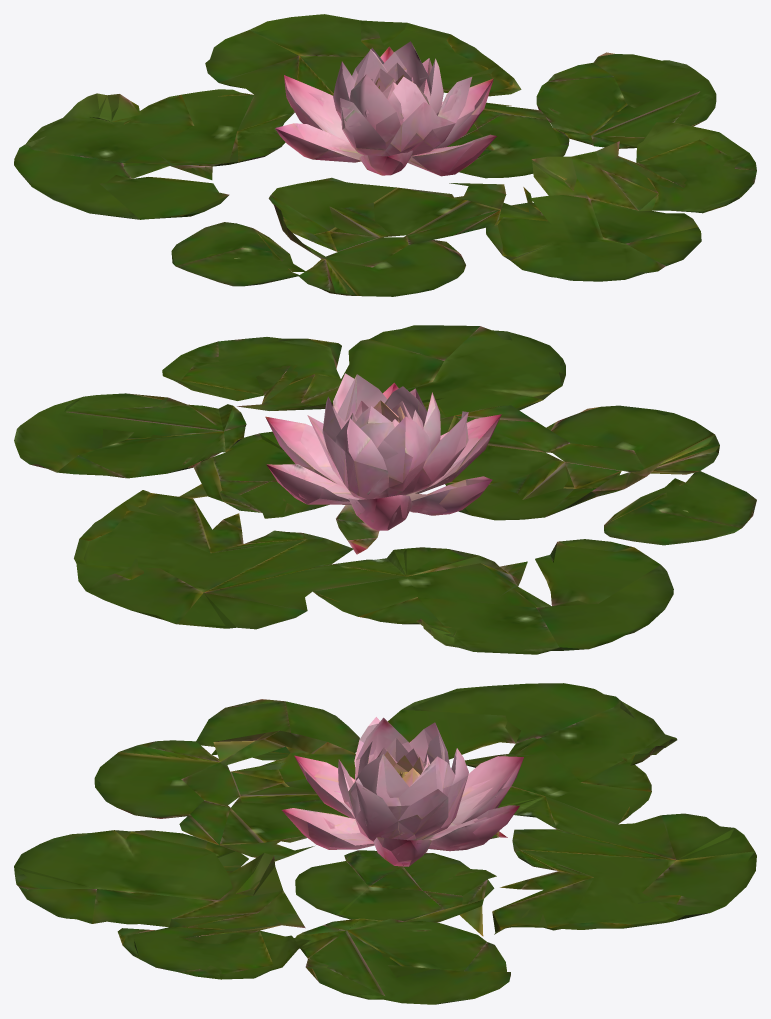
Rendered from scene_lily_pads.glb.
The picture shows the model from 3 angles, top to bottom: view 1: azimuth 30°, elevation 25°; view 2: azimuth 150°, elevation 25°; view 3: azimuth 270°, elevation 25°; orthographic projection. The views are drawn at different scales.
Bounding box in the file's own units: 1.9 × 0.3316 × 1.86.
Materials: 1 (1 with a texture image).
